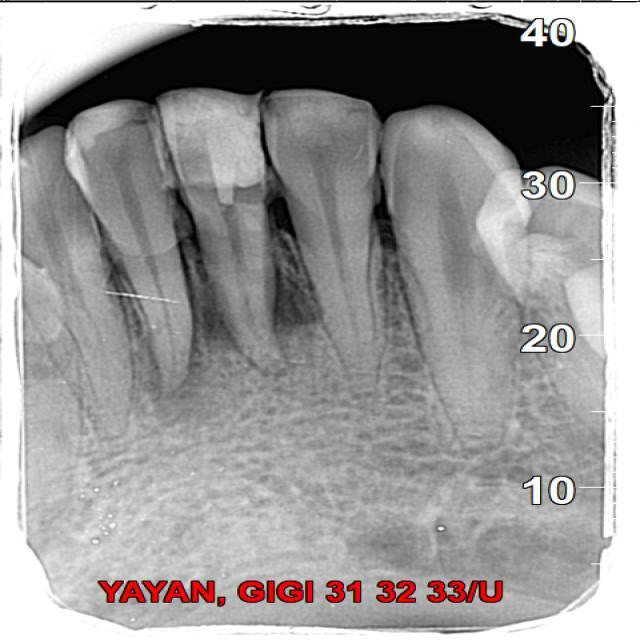individual-tooth-8tto: (375, 108, 530, 458), (60, 100, 195, 383), (260, 89, 385, 393), (156, 87, 274, 370)
